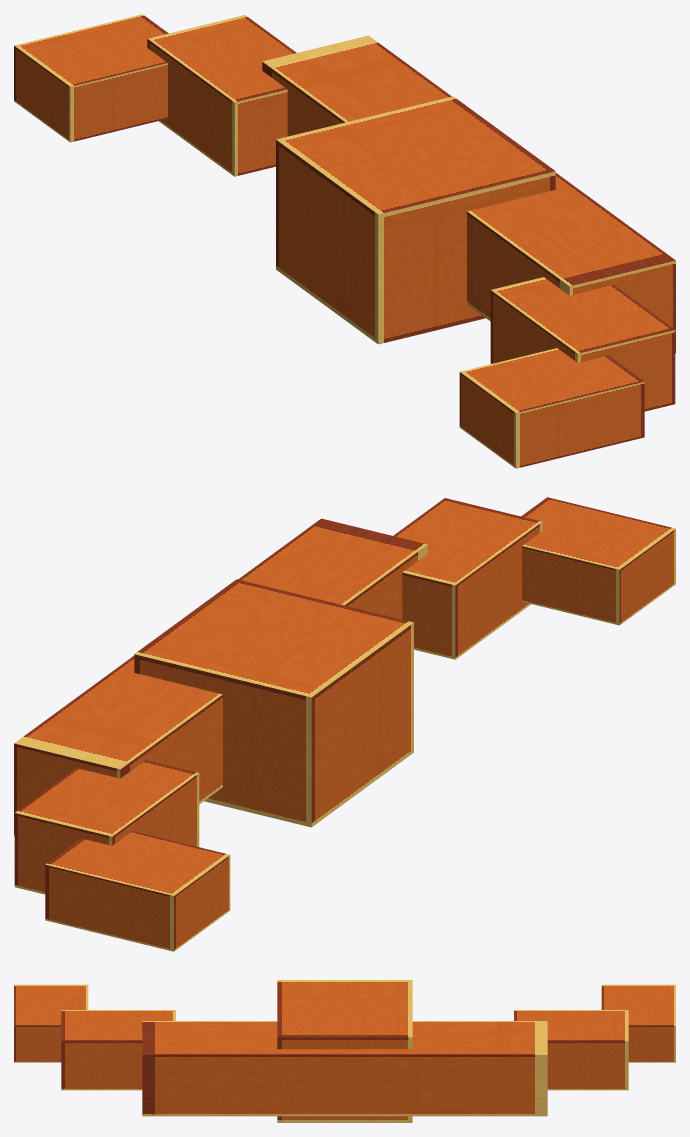
The model's file is bench_pickaxe_1_hot.obj.
3 renders of one model, top to bottom at view 1: azimuth 30°, elevation 25°; view 2: azimuth 150°, elevation 25°; view 3: azimuth 270°, elevation 25°, orthographic. The views are drawn at different scales.
Parts seen in each view (by area): view 1: geometry; view 2: geometry; view 3: geometry.
Part boxes in pixels (left/top/right/bottom): geometry: left=14, top=14, right=675, bottom=468; geometry: left=14, top=497, right=675, bottom=951; geometry: left=14, top=980, right=675, bottom=1122.
Size of the model in its own units: 0.2219 by 0.1071 by 0.75.
